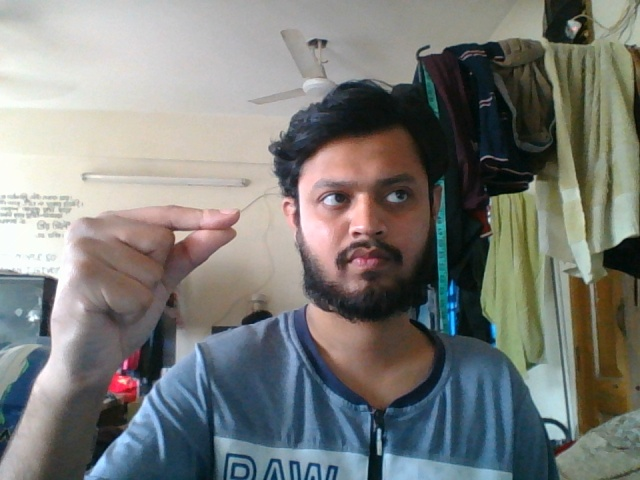onushhar: (43, 203, 246, 379)
